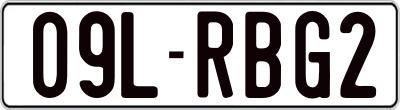0: (30, 12, 66, 101)
2: (338, 11, 378, 100)
9: (77, 9, 116, 97)
B: (243, 9, 283, 99)
G: (295, 10, 333, 101)
L: (120, 10, 161, 100)
R: (194, 9, 235, 102)
